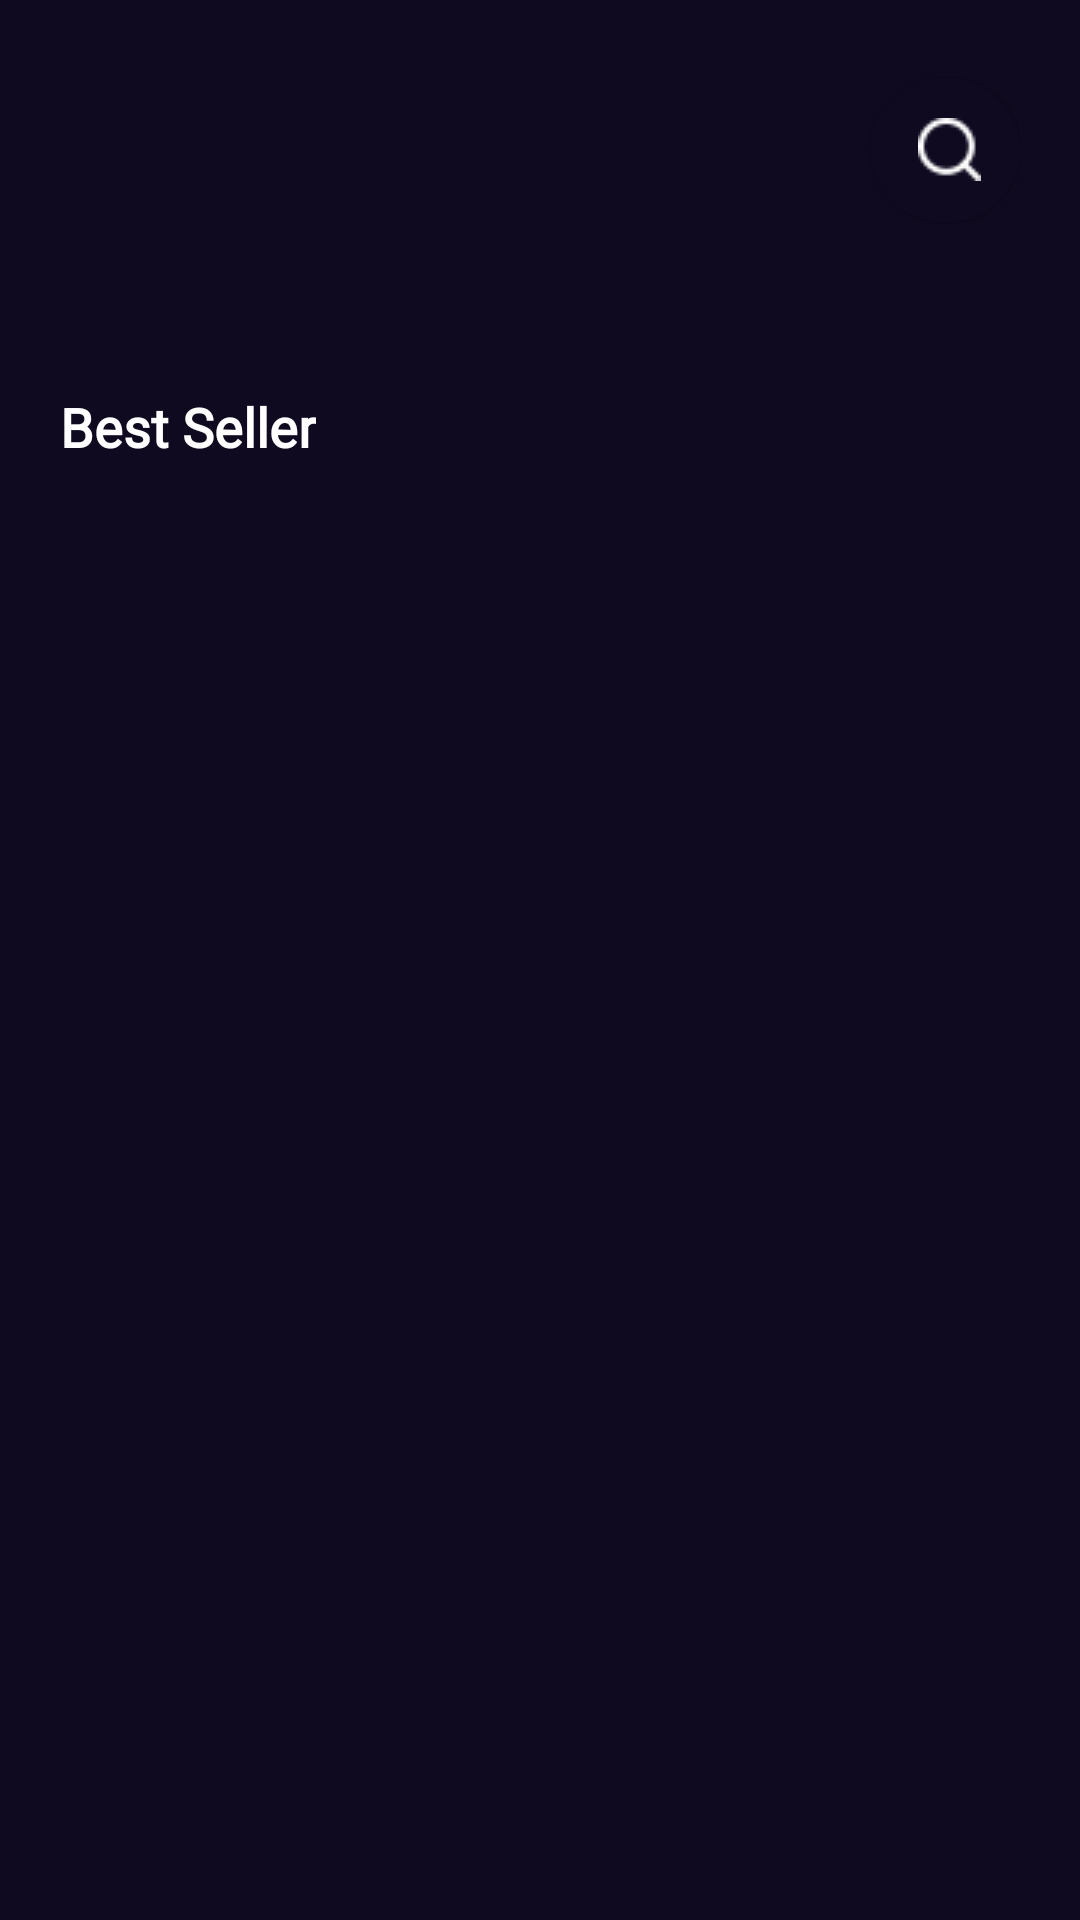

Screen size 1080px×1920px. Icon name, then its center in pixels as (x,y):
search: (949,149)
